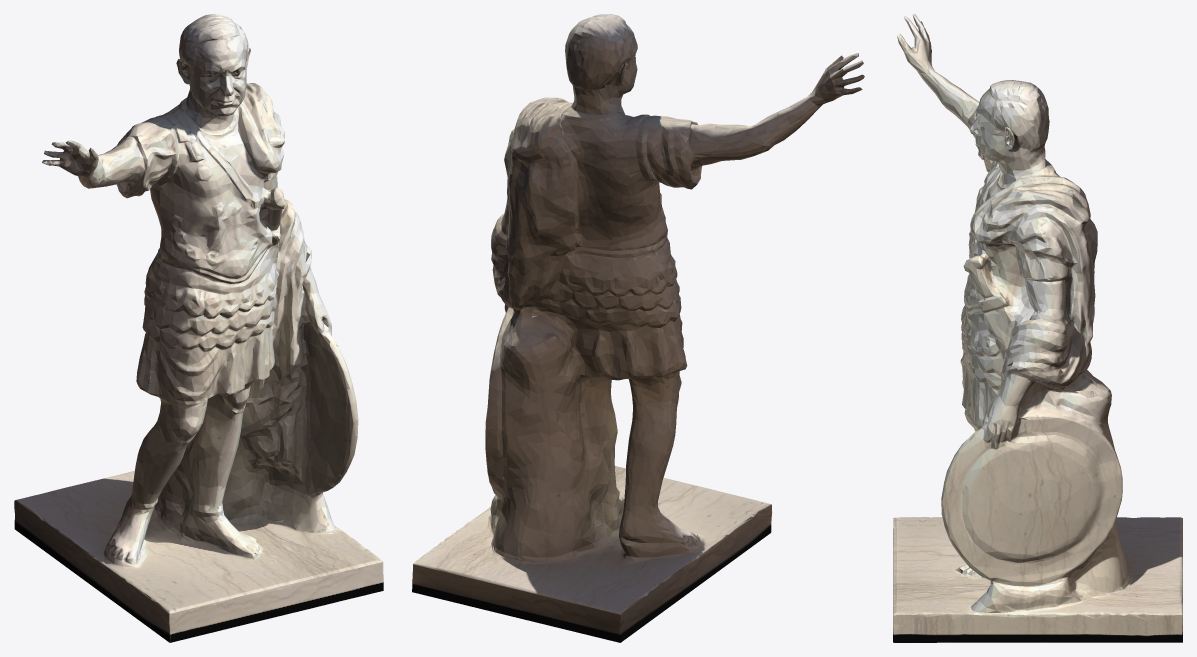
The model's file is statue.glb.
The picture shows the model from 3 angles, left to right: view 1: azimuth 30°, elevation 25°; view 2: azimuth 150°, elevation 25°; view 3: azimuth 270°, elevation 25°; orthographic projection. The views are drawn at different scales.
Visible parts, largest first — view 1: louvre-statue-of-emperor-titus-1; view 2: louvre-statue-of-emperor-titus-1; view 3: louvre-statue-of-emperor-titus-1.
Part boxes in pixels (x1,y1,x2,y2): louvre-statue-of-emperor-titus-1: (14,14,383,642); louvre-statue-of-emperor-titus-1: (412,14,864,642); louvre-statue-of-emperor-titus-1: (893,14,1182,642).
Size of the model in its own units: 7.94 by 12.74 by 6.54.
Materials: 1 (1 with a texture image).
